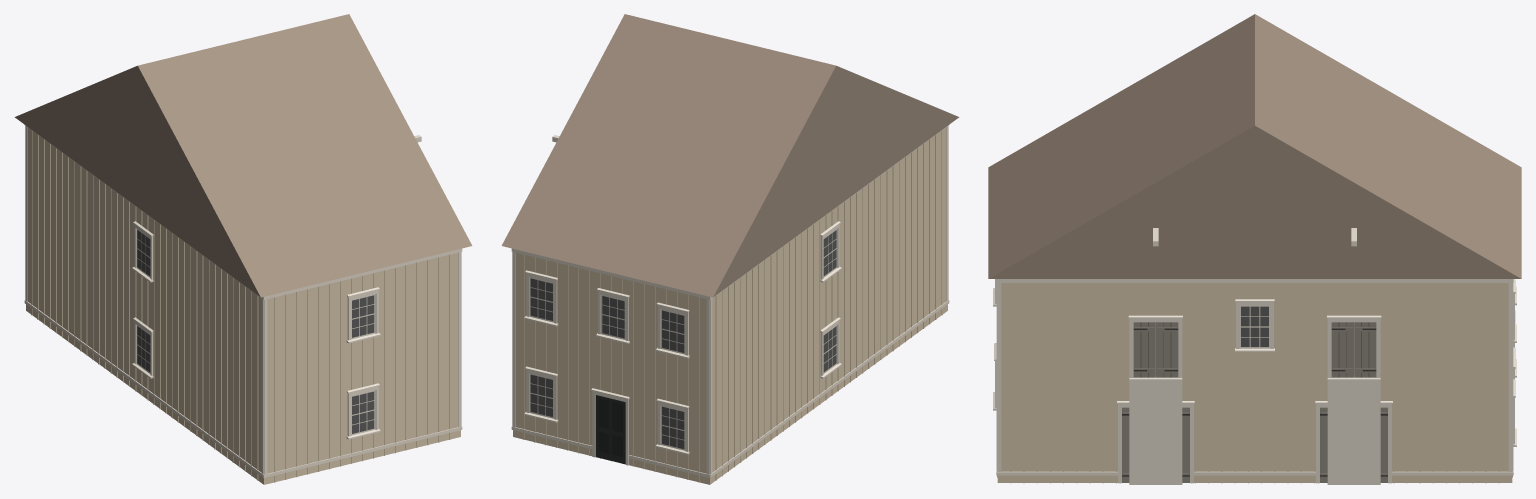
File: recon_1835_branch_freight_f2_001__inferred_1835.glb
3 renders of one model, left to right at view 1: azimuth 30°, elevation 25°; view 2: azimuth 150°, elevation 25°; view 3: azimuth 270°, elevation 25°, orthographic. The views are drawn at different scales.
Parts seen in each view (by area): view 1: recon_1835_branch_freight_f2_001__inferred_1835; view 2: recon_1835_branch_freight_f2_001__inferred_1835; view 3: recon_1835_branch_freight_f2_001__inferred_1835.
Boxes of the visible parts, x1,y1,x2,y2 form: recon_1835_branch_freight_f2_001__inferred_1835: (14,14,472,484); recon_1835_branch_freight_f2_001__inferred_1835: (501,14,959,484); recon_1835_branch_freight_f2_001__inferred_1835: (988,14,1521,484).
Size of the model in its own units: 8.05 by 10.85 by 14.52.
